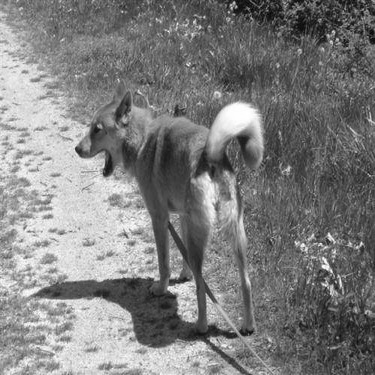dog: (61, 71, 268, 340)
